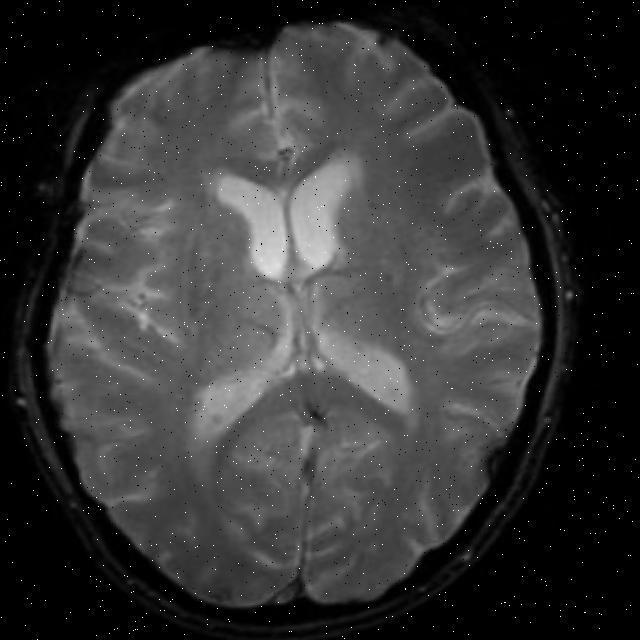EMCI: (86, 188, 218, 351)
MCI: (398, 168, 525, 341)
